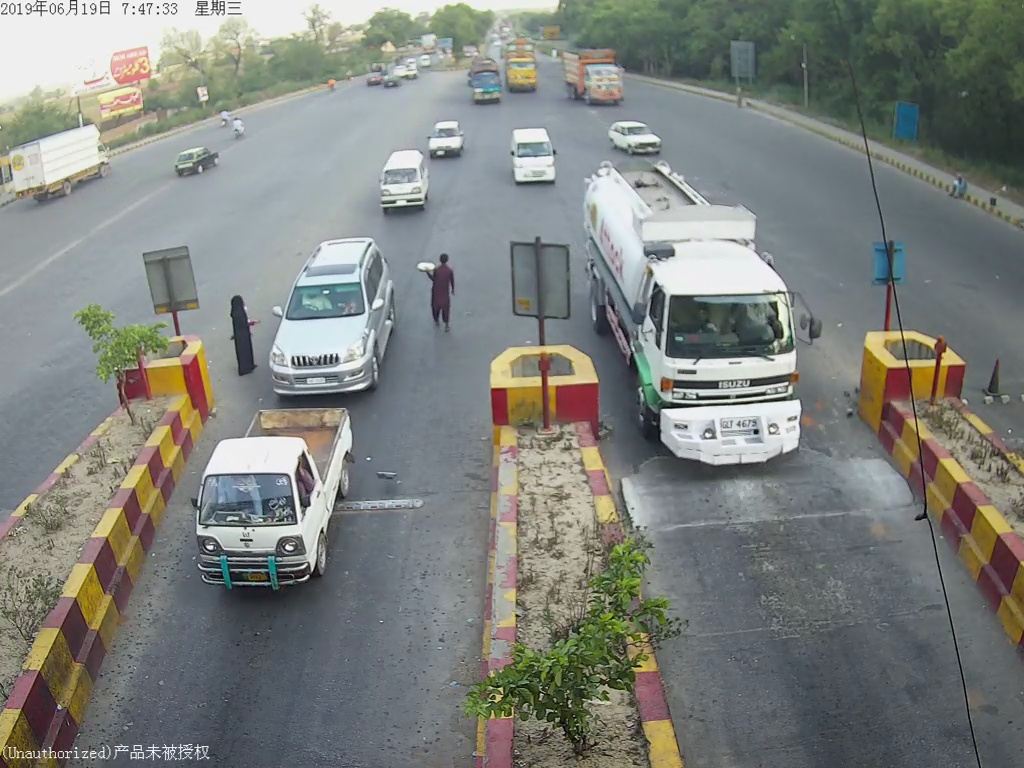Cat-1: (192, 404, 356, 597), (266, 233, 403, 397), (375, 146, 429, 215), (503, 125, 560, 188), (608, 116, 665, 156), (426, 116, 467, 161)
Cat-4: (585, 160, 835, 469), (554, 39, 635, 110), (502, 34, 545, 94)
